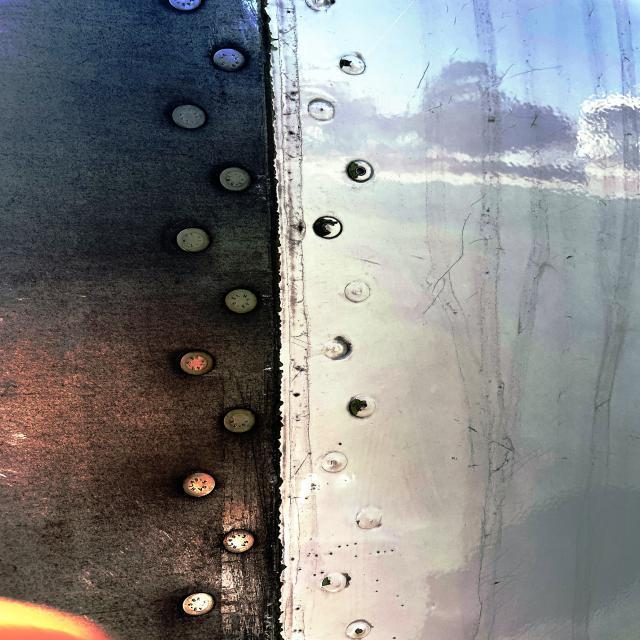crack: (413, 206, 472, 321), (471, 415, 533, 490)
